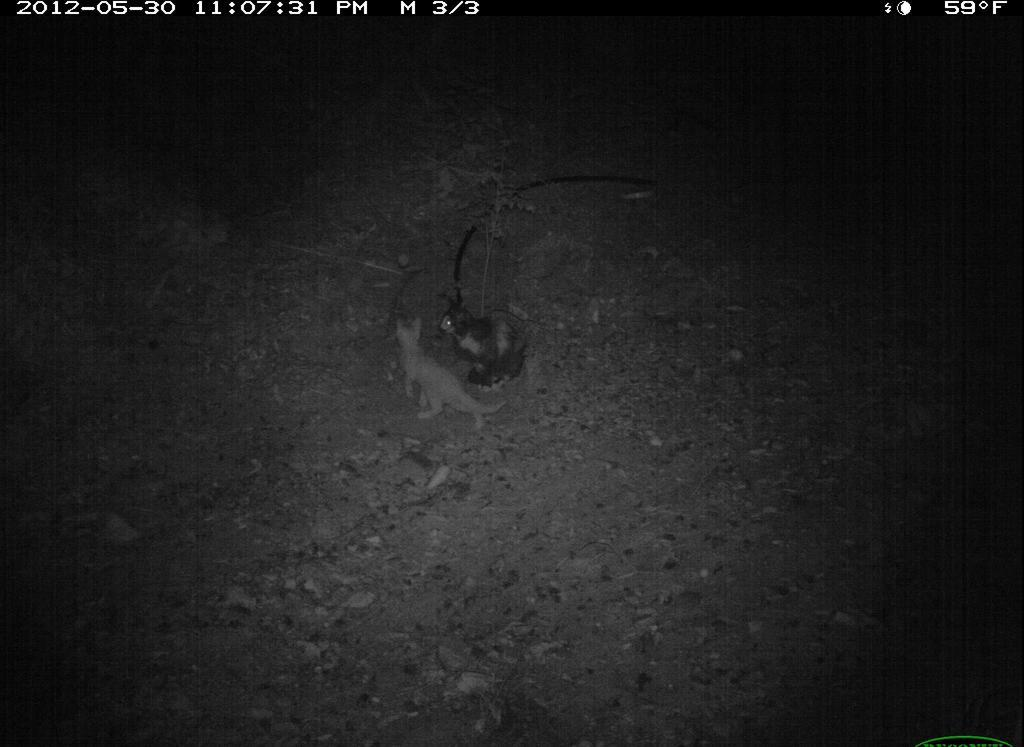cat: (382, 310, 510, 434), (437, 290, 536, 392)
